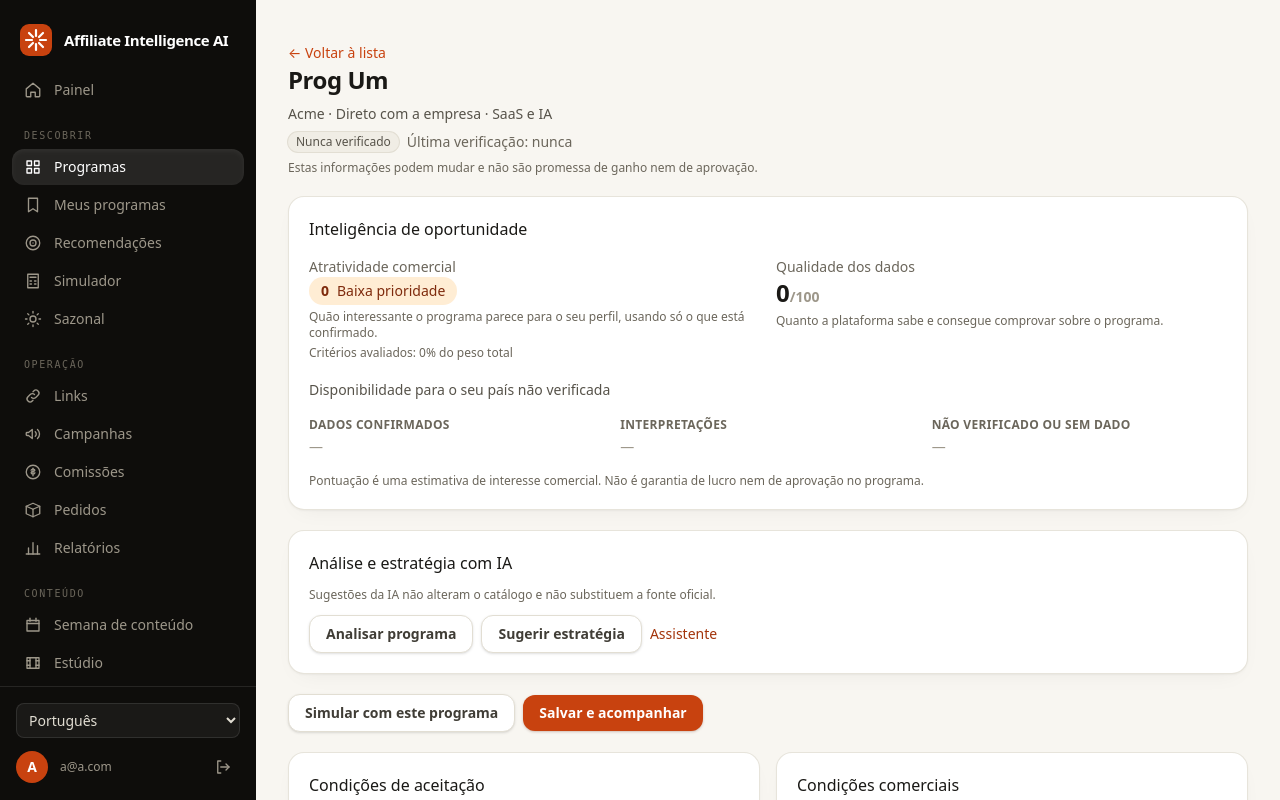
Test: comissões e painel › ProgramDetail: salvar e acompanhar cria o registro em Meus programas
Click the button "Salvar e acompanhar".
click(613, 713)  # box x1=523 y1=695 x2=703 y2=731
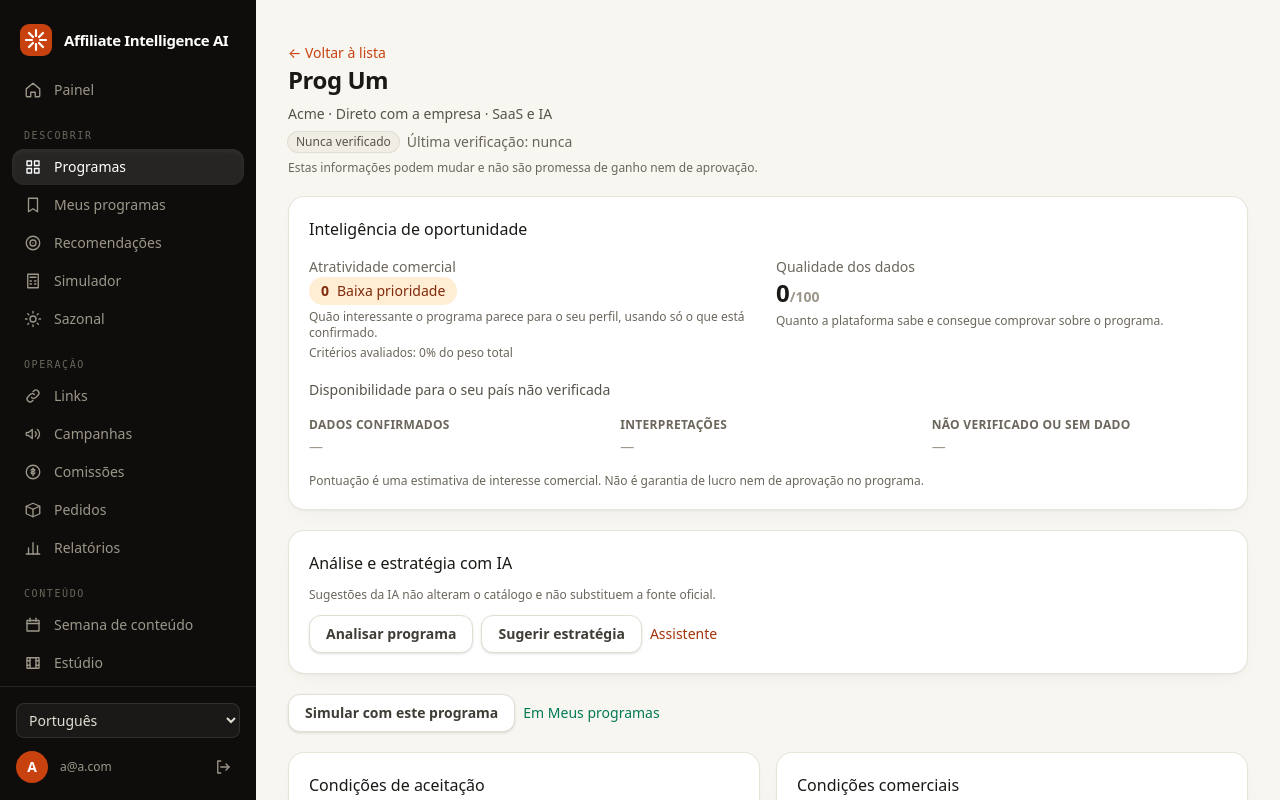
Result: the link "Em Meus programas" is shown at x1=523 y1=703 x2=660 y2=723
